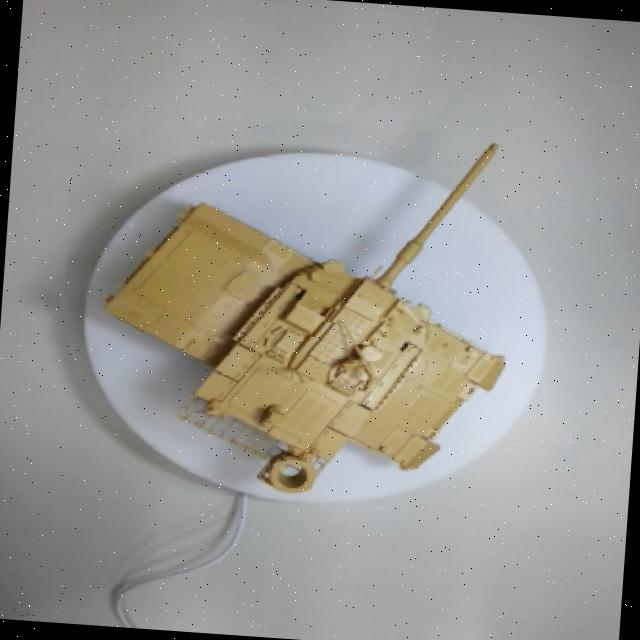korea tank: (71, 89, 550, 524)
